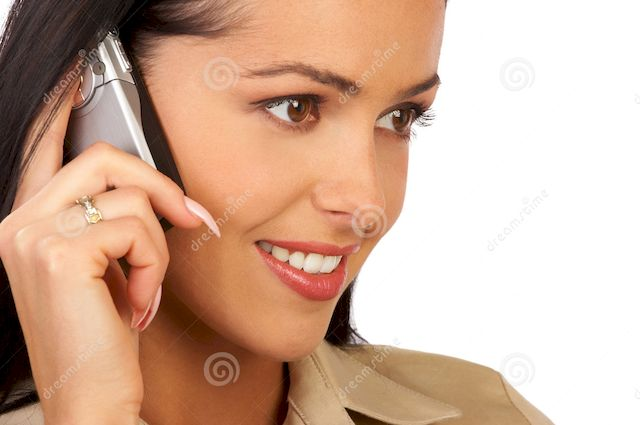phone: (66, 38, 167, 244)
talk: (5, 16, 444, 367)
